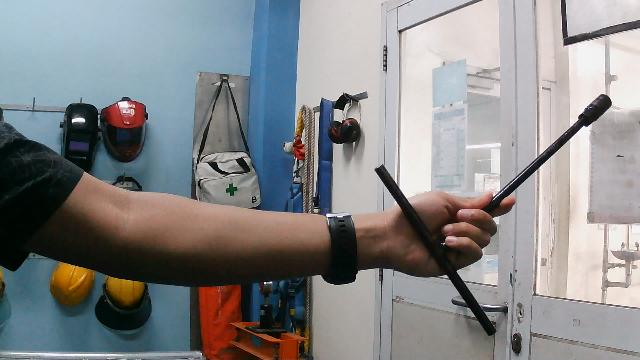kunci_t: (369, 87, 615, 340)
